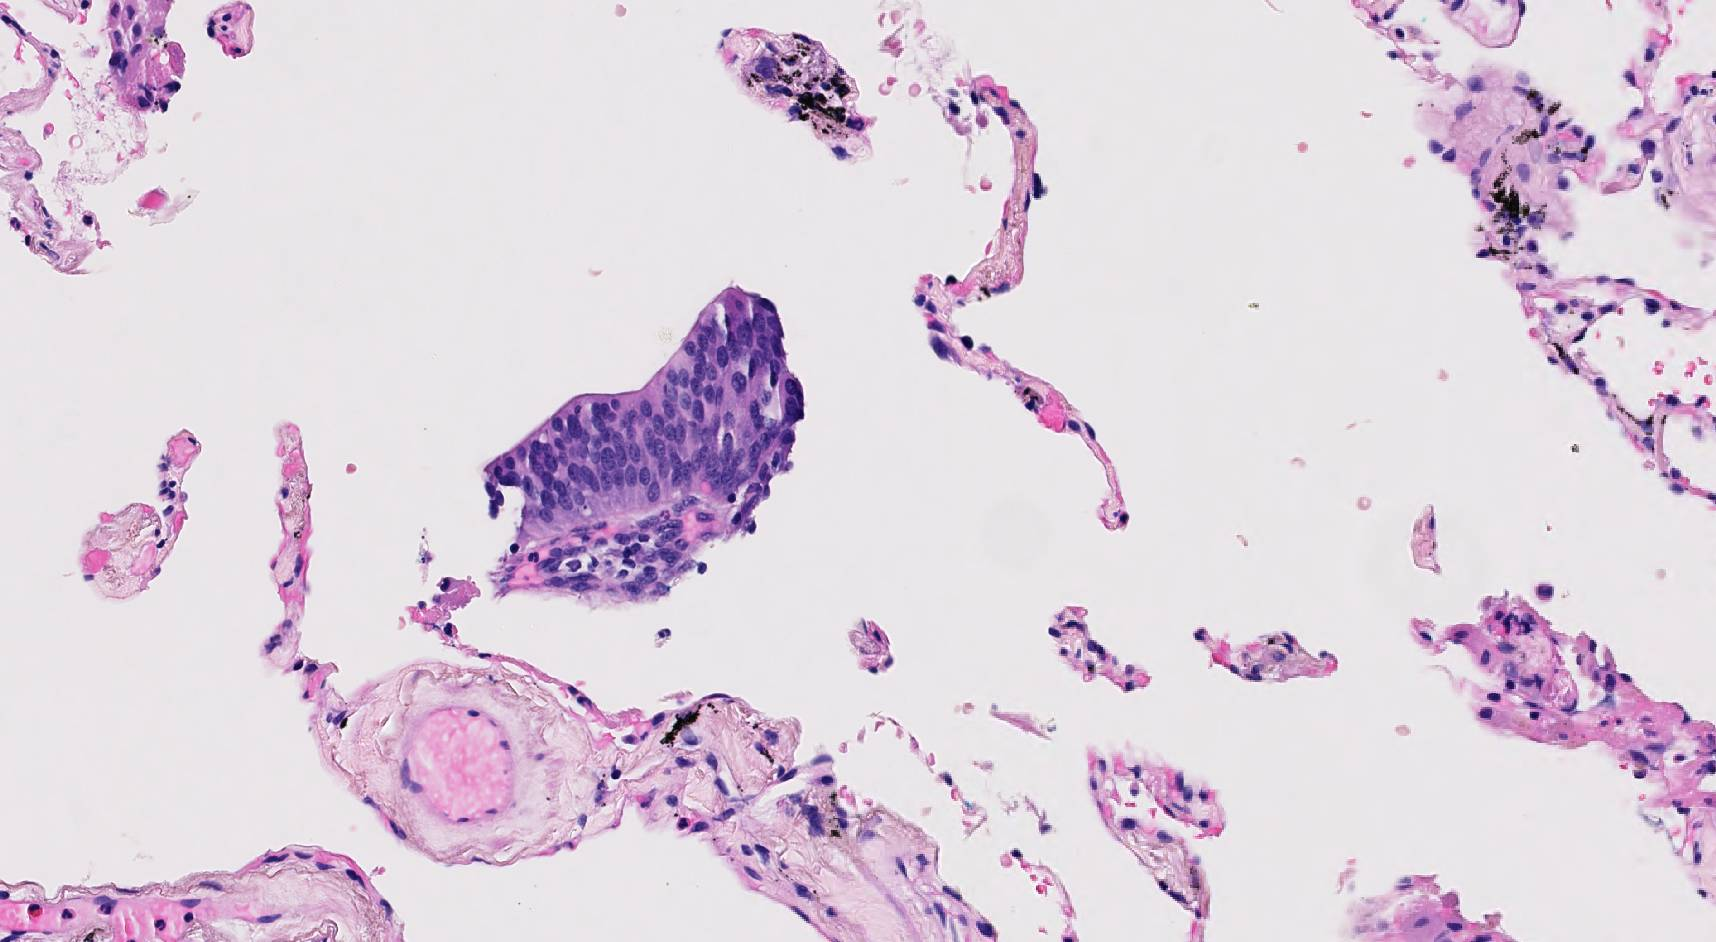stas: (478, 284, 810, 603)
